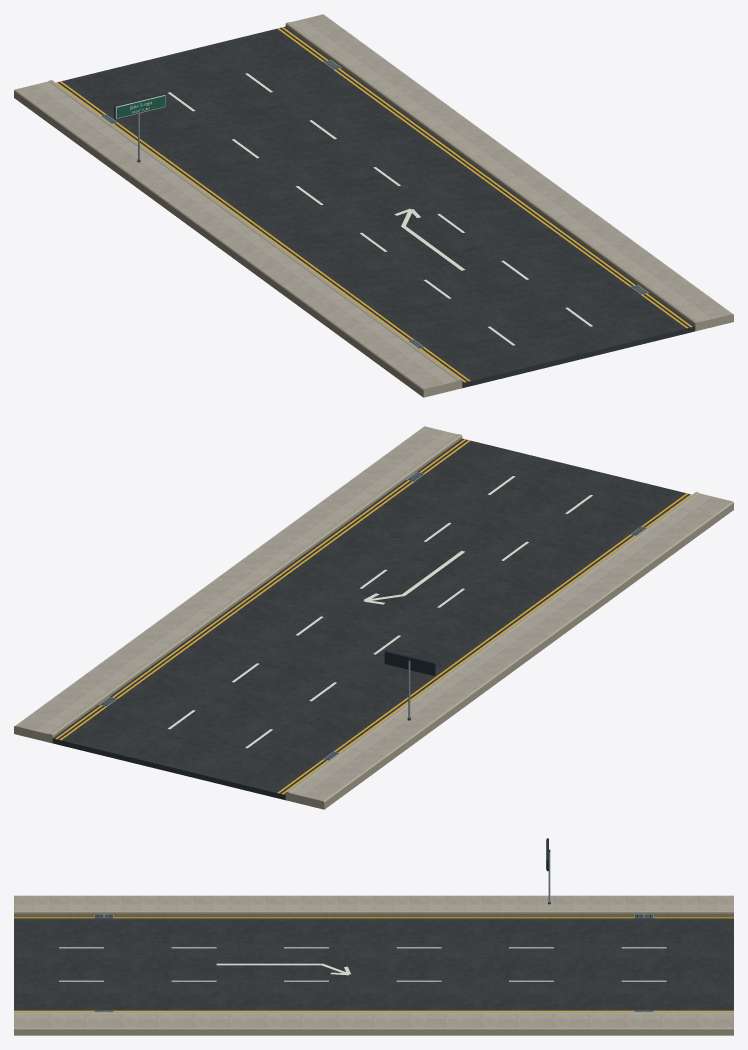
3 renders of one model, top to bottom at view 1: azimuth 30°, elevation 25°; view 2: azimuth 150°, elevation 25°; view 3: azimuth 270°, elevation 25°, orthographic. The views are drawn at different scales.
Parts seen in each view (by area): view 1: Road Deck, Kerbs and Footways, Road Markings, Local Street Signs; view 2: Road Deck, Kerbs and Footways, Road Markings, Local Street Signs; view 3: Road Deck, Kerbs and Footways, Road Markings, Drainage and Utility Covers.
Part boxes in pixels (x1=…): Road Deck: x1=57, y1=26, x2=695, y2=388; Kerbs and Footways: x1=14, y1=14, x2=733, y2=397; Road Markings: x1=56, y1=27, x2=692, y2=382; Local Street Signs: x1=114, y1=93, x2=165, y2=162; Road Deck: x1=52, y1=438, x2=690, y2=800; Kerbs and Footways: x1=14, y1=426, x2=733, y2=809; Road Markings: x1=55, y1=439, x2=691, y2=794; Local Street Signs: x1=384, y1=650, x2=435, y2=720; Road Deck: x1=14, y1=914, x2=733, y2=1010; Kerbs and Footways: x1=14, y1=895, x2=733, y2=1035; Road Markings: x1=14, y1=915, x2=733, y2=1011; Drainage and Utility Covers: x1=94, y1=914, x2=653, y2=1011.
Size of the model in its own units: 14.24 by 3.04 by 32.
Materials: 11 (2 with a texture image).
